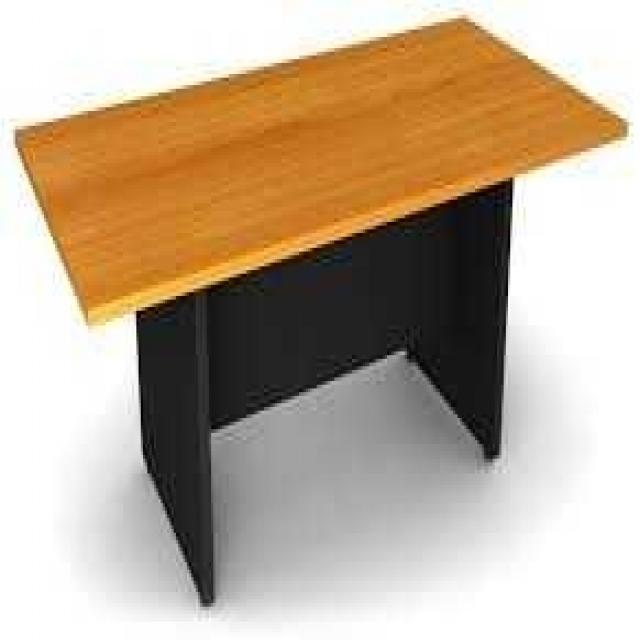table: (4, 8, 640, 614)
